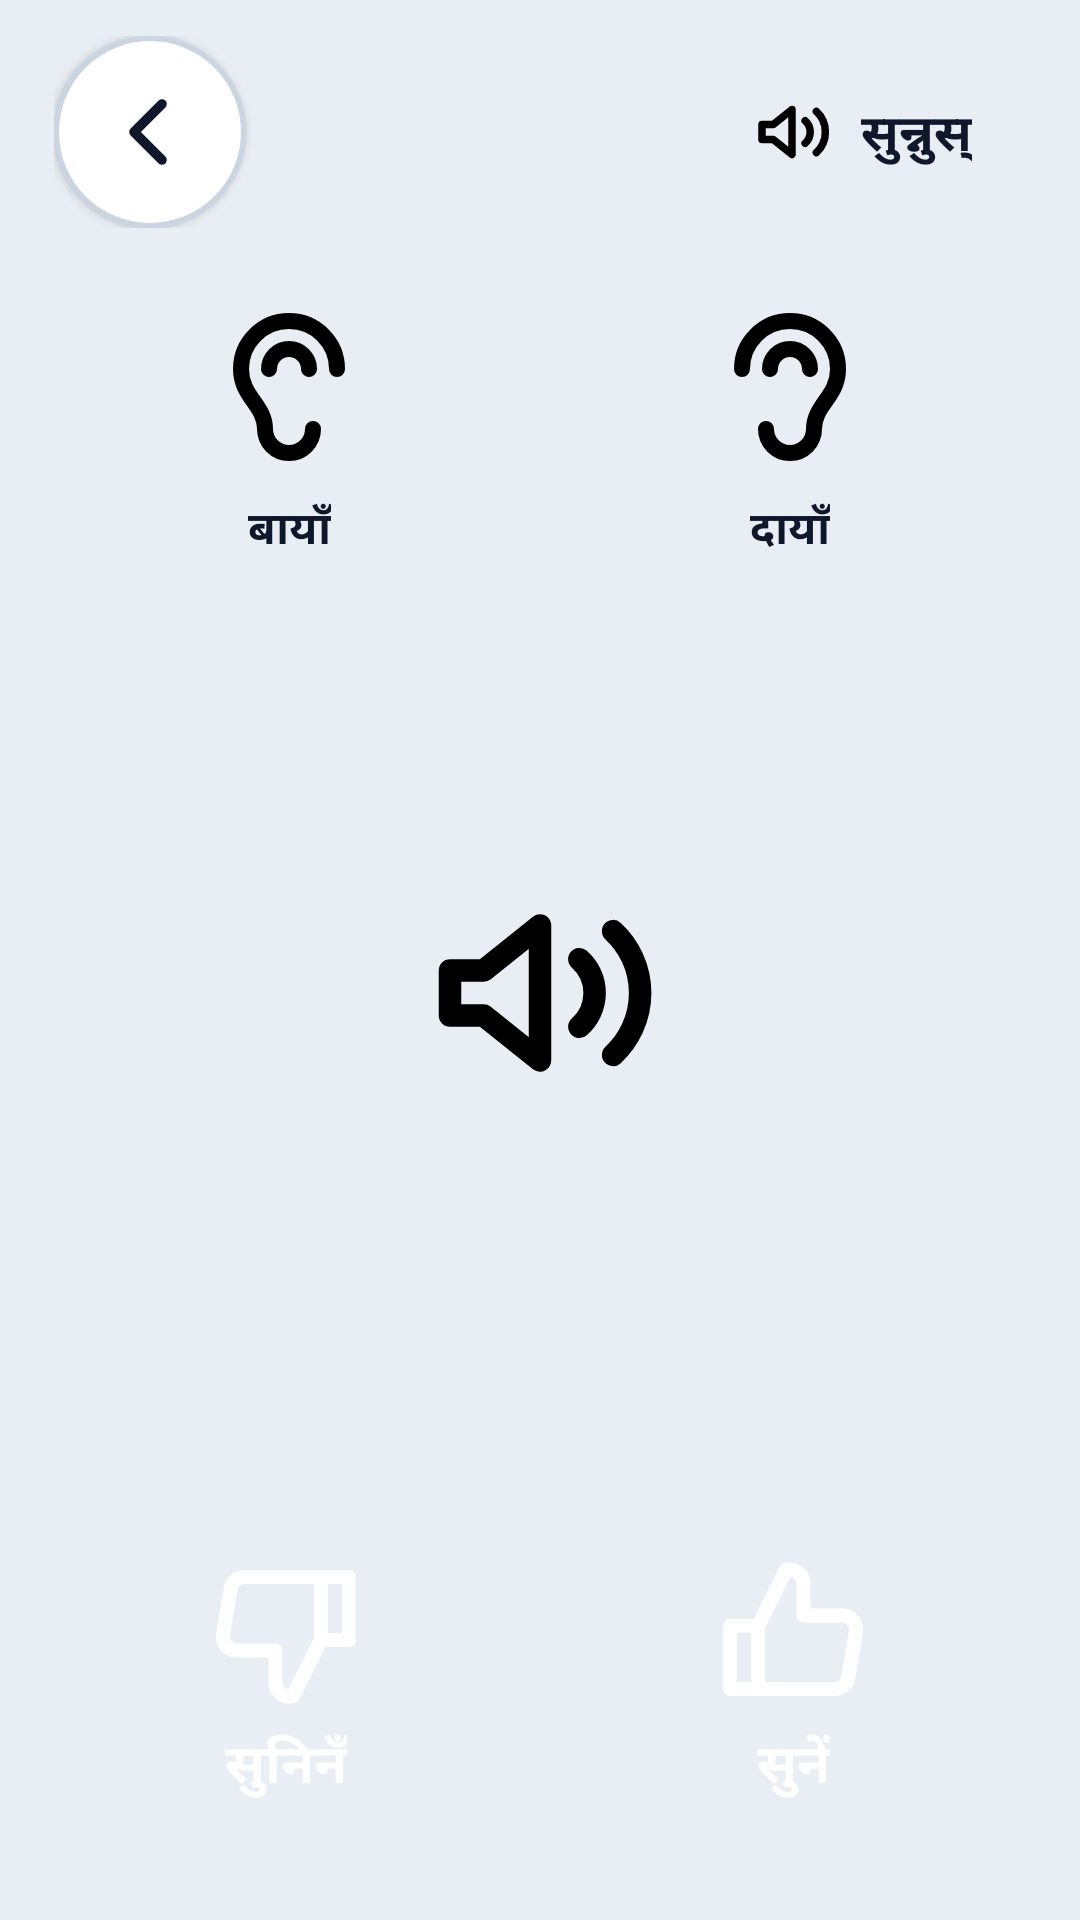

Named icons in this screenshot (1080x1920) and their centers, (x,y):
back: (148,132)
voice: (793,132), (545,993)
